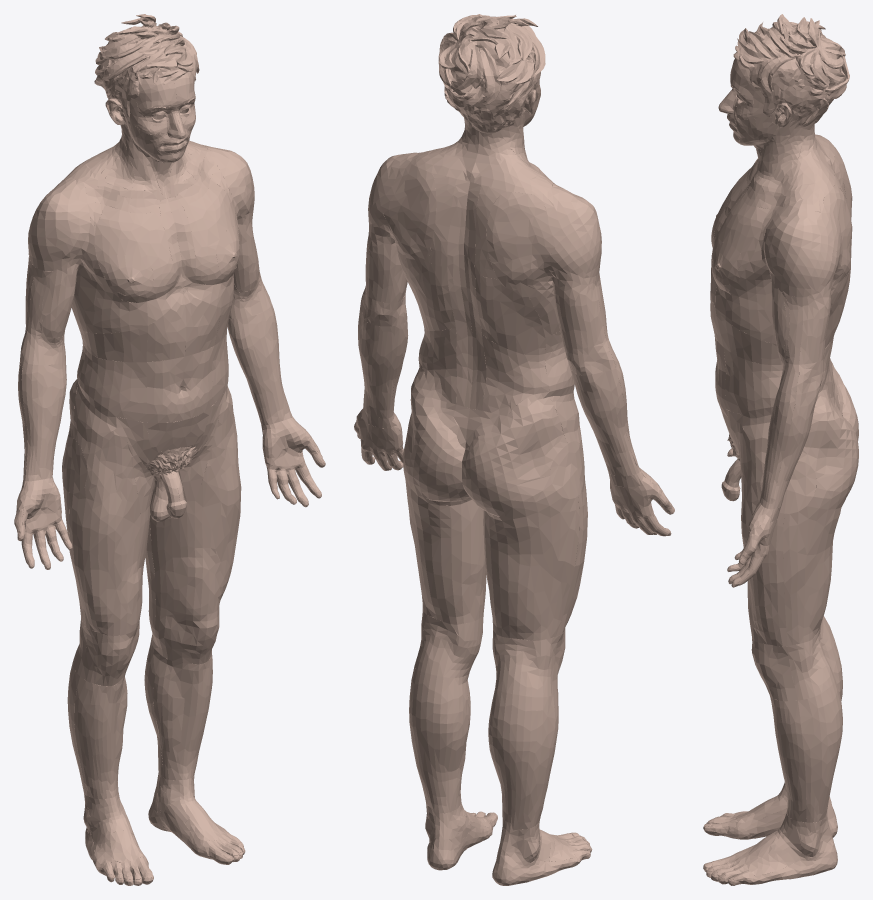
Rendered from skin.glb.
The picture shows the model from 3 angles, left to right: view 1: azimuth 30°, elevation 25°; view 2: azimuth 150°, elevation 25°; view 3: azimuth 270°, elevation 25°; orthographic projection. The views are drawn at different scales.
Visible parts, largest first — view 1: skin, skin-head; view 2: skin, skin-head; view 3: skin, skin-head.
Part boxes in pixels (box(x1,y1,x2,y2)): skin: box(14, 143, 325, 885); skin-head: box(70, 14, 210, 198); skin: box(354, 152, 674, 885); skin-head: box(408, 14, 551, 206); skin: box(703, 155, 858, 885); skin-head: box(718, 14, 849, 205).
Bounding box in the file's own units: 0.6802 × 1.74 × 0.2942.
1 material, 1 textured.
